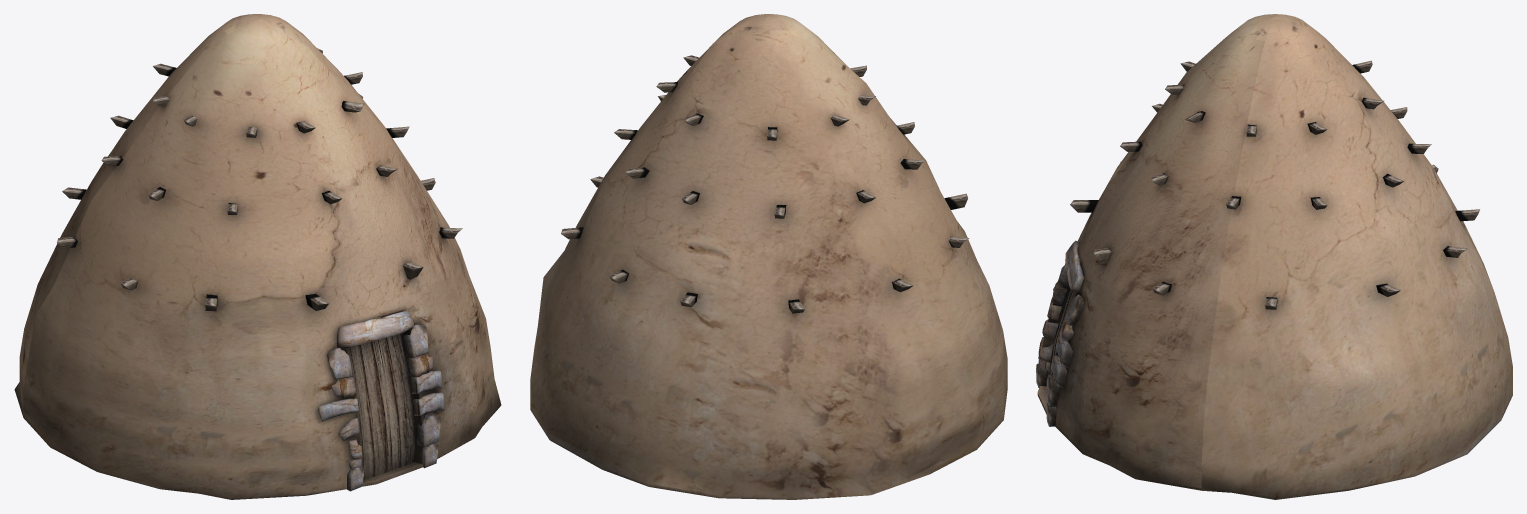
The model's file is building6.fbx.
3 renders of one model, left to right at view 1: azimuth 30°, elevation 25°; view 2: azimuth 150°, elevation 25°; view 3: azimuth 270°, elevation 25°, orthographic.
Visible parts, largest first — view 1: U3DMesh; view 2: U3DMesh; view 3: U3DMesh.
Part boxes in pixels (x1,y1,x2,y2): U3DMesh: (14,14,501,499); U3DMesh: (530,14,1007,499); U3DMesh: (1036,14,1512,499).
Size of the model in its own units: 256 by 220 by 251.
